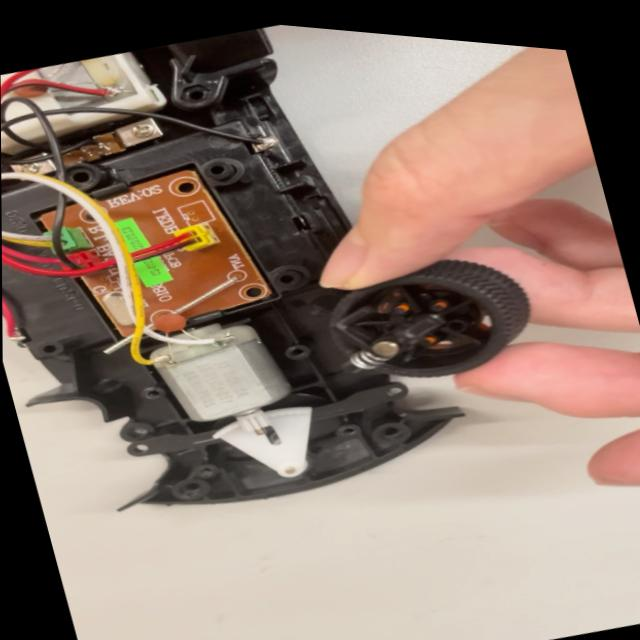wheel: (322, 231, 535, 417)
